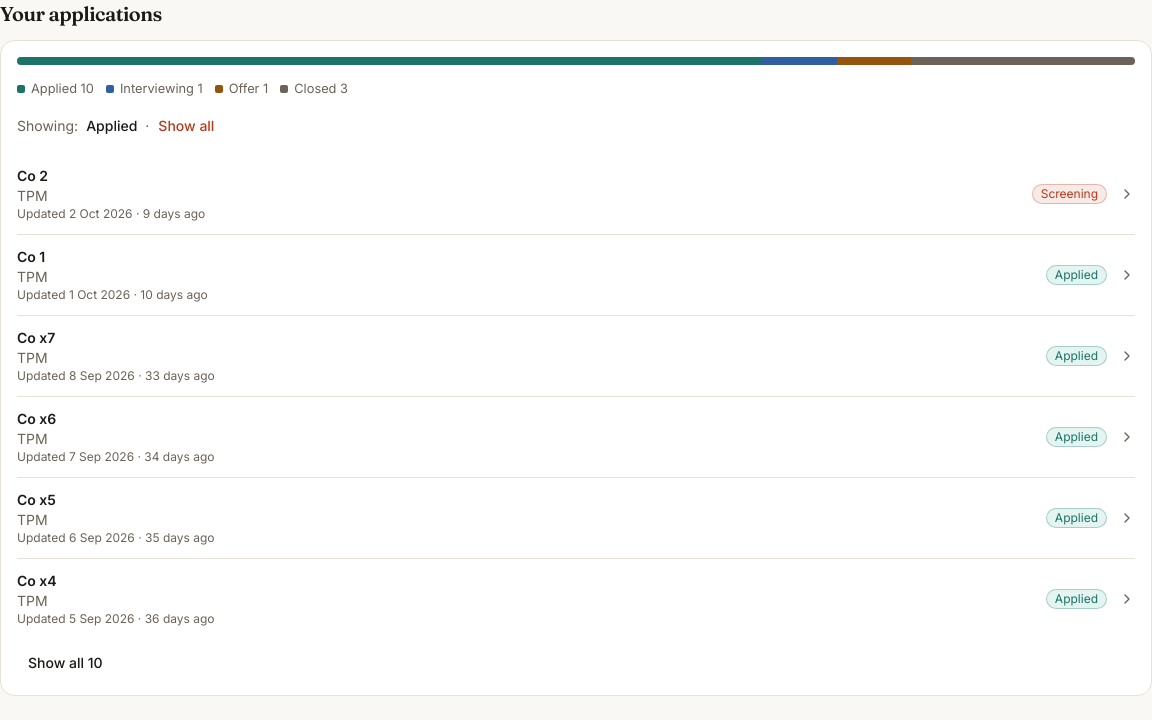
Scenario: ApplicationsSection › folds the list again when the filter changes
Click the button "Show all 10" at (65, 663), box [17,647,114,679]
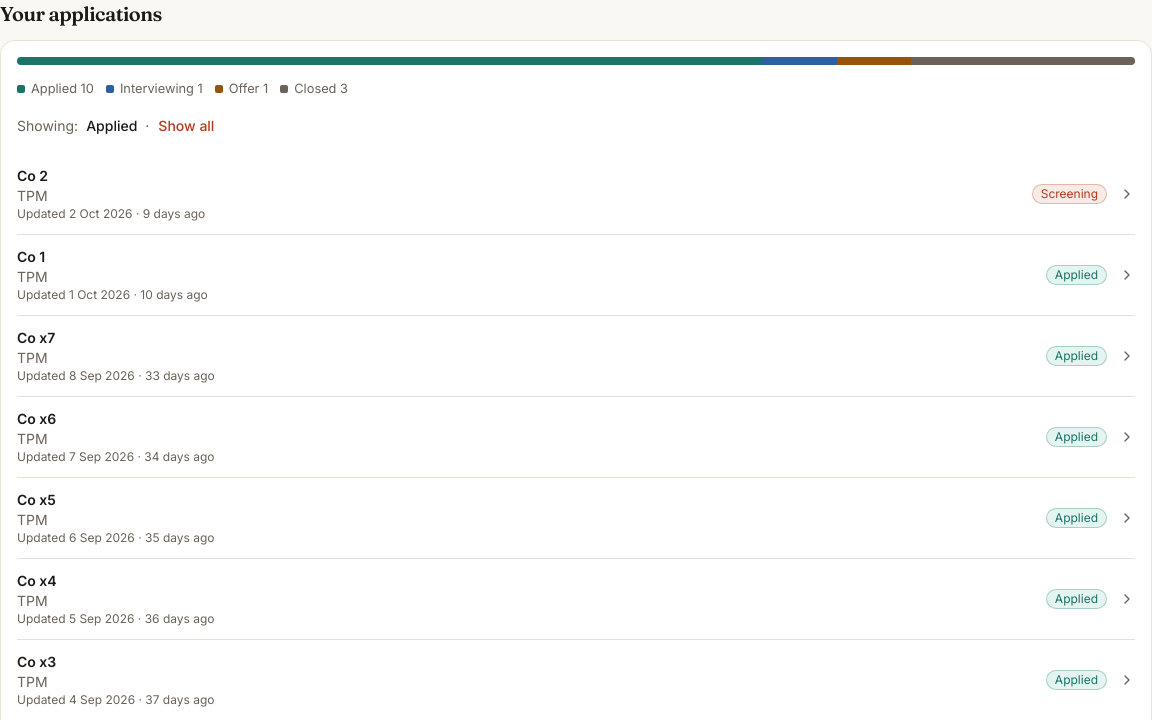
Click the button with aria-label "Show all applications" at (186, 126), box [157,110,215,142]
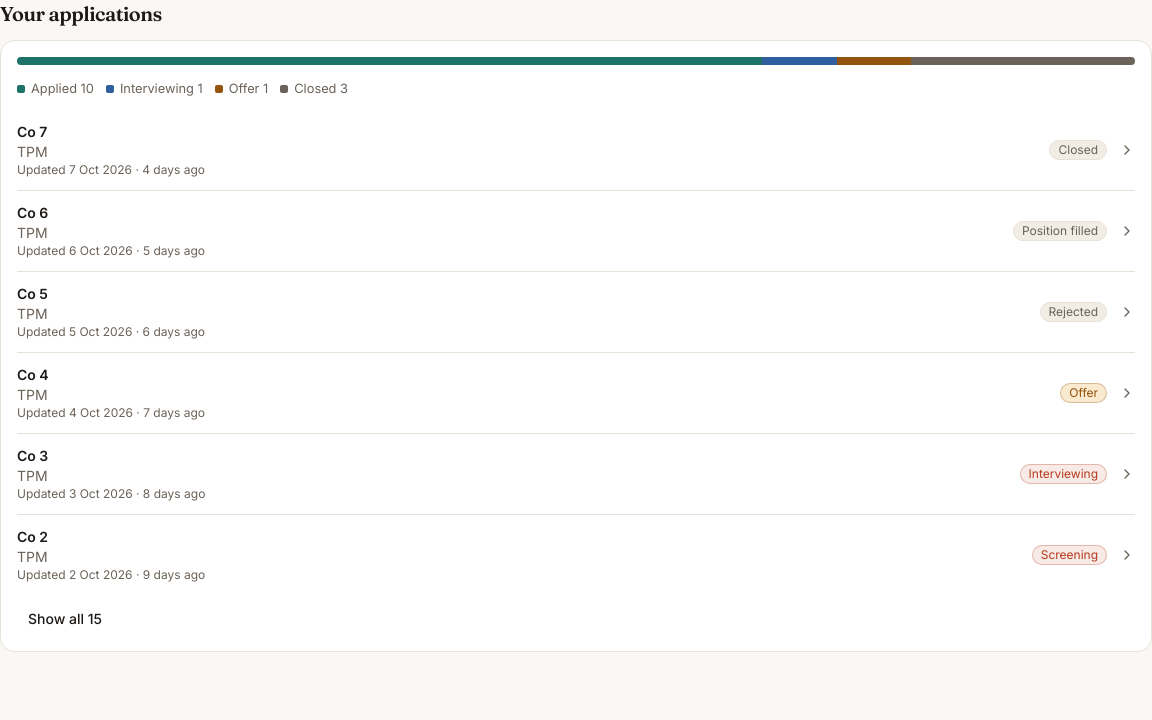
Check: the button "Show all 15" is shown, box [17,603,113,635]
